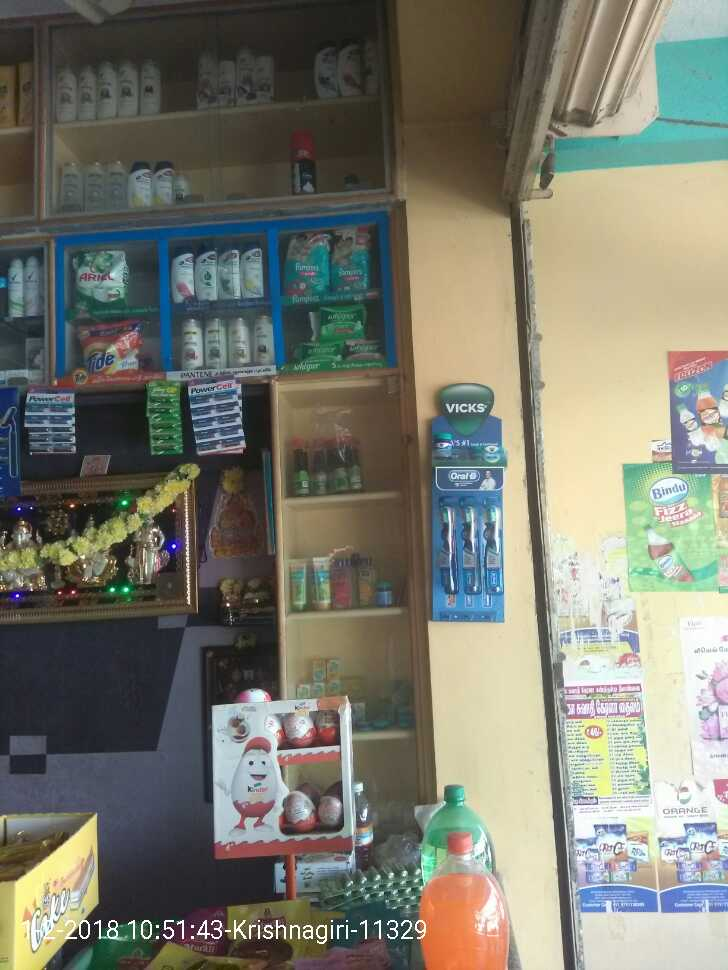beauty: (49, 54, 167, 121), (179, 41, 286, 108), (174, 311, 270, 365), (302, 35, 377, 98), (47, 162, 128, 219), (127, 153, 174, 205), (164, 240, 196, 311), (293, 126, 320, 196), (192, 243, 220, 304), (242, 248, 267, 296), (221, 250, 236, 298)
home: (57, 241, 131, 312), (68, 319, 143, 369)
pharmacy: (443, 501, 503, 597), (270, 228, 336, 298), (329, 222, 378, 294), (436, 415, 500, 462), (310, 305, 372, 343)
